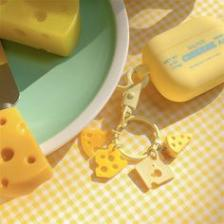yellow: (143, 16, 224, 102), (0, 0, 80, 56), (95, 150, 128, 178), (167, 135, 193, 158)
